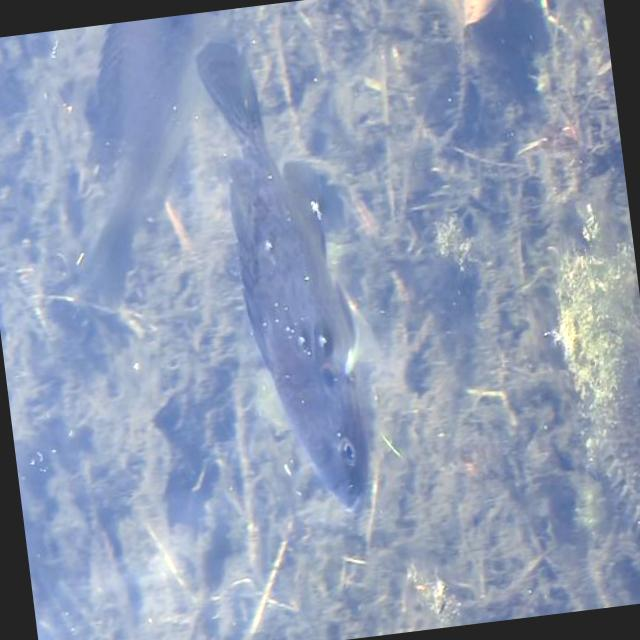Gunes Levregi: (171, 22, 411, 536)
